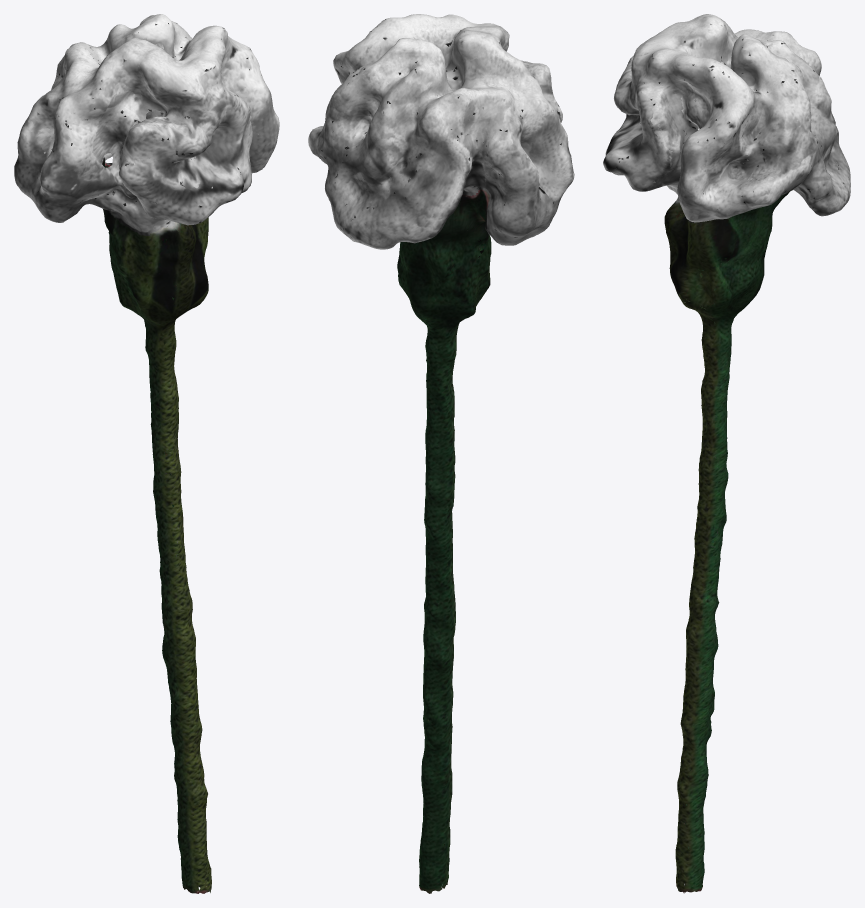
File: carnation_single.glb
3 renders of one model, left to right at view 1: azimuth 30°, elevation 25°; view 2: azimuth 150°, elevation 25°; view 3: azimuth 270°, elevation 25°, orthographic. The views are drawn at different scales.
Parts seen in each view (by area): view 1: Carnation_Petals, Carnation _Stem; view 2: Carnation_Petals, Carnation _Stem; view 3: Carnation_Petals, Carnation _Stem.
Boxes of the visible parts, x1,y1,x2,y2 form: Carnation_Petals: (14,14,279,572); Carnation _Stem: (102,160,211,893); Carnation_Petals: (308,14,574,697); Carnation _Stem: (397,189,491,893); Carnation_Petals: (603,14,850,885); Carnation _Stem: (664,190,791,893).
Size of the model in its own units: 0.5654 by 2 by 0.5306.
Materials: 2 (2 with a texture image).
